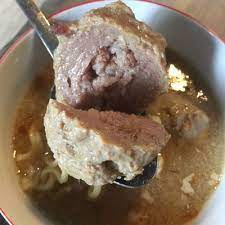bakso: (27, 14, 180, 188)
